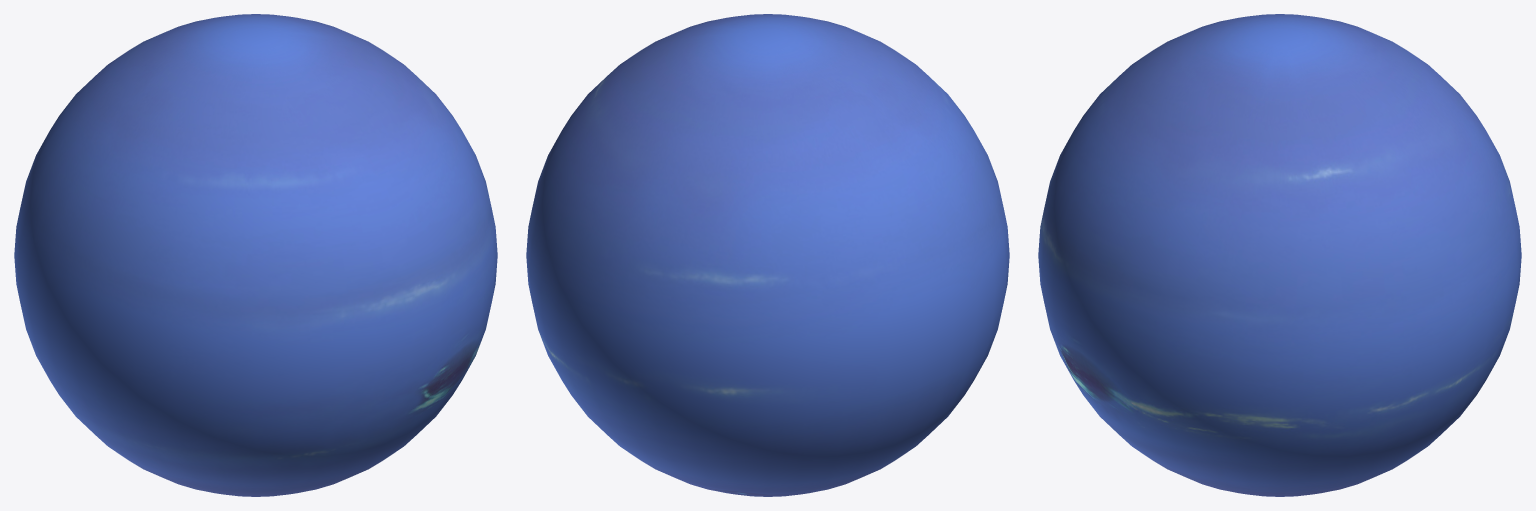
Rendered from neptune.glb.
The picture shows the model from 3 angles, left to right: view 1: azimuth 30°, elevation 25°; view 2: azimuth 150°, elevation 25°; view 3: azimuth 270°, elevation 25°; orthographic projection.
Parts seen in each view (by area): view 1: Sphere; view 2: Sphere; view 3: Sphere.
Boxes of the visible parts, box(x1,y1,x2,y2) form: Sphere: box(14, 14, 497, 496); Sphere: box(526, 14, 1009, 496); Sphere: box(1038, 14, 1521, 496).
Bounding box in the file's own units: 2 × 2 × 2.
1 material, 1 textured.
